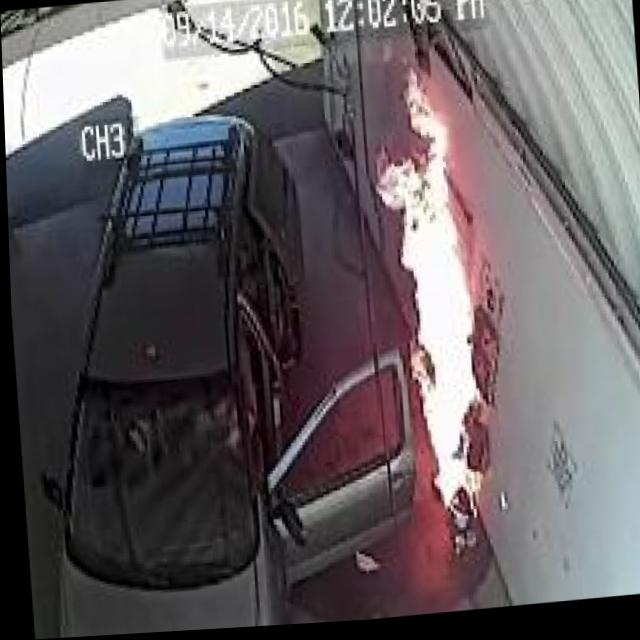fire: (357, 53, 519, 536)
